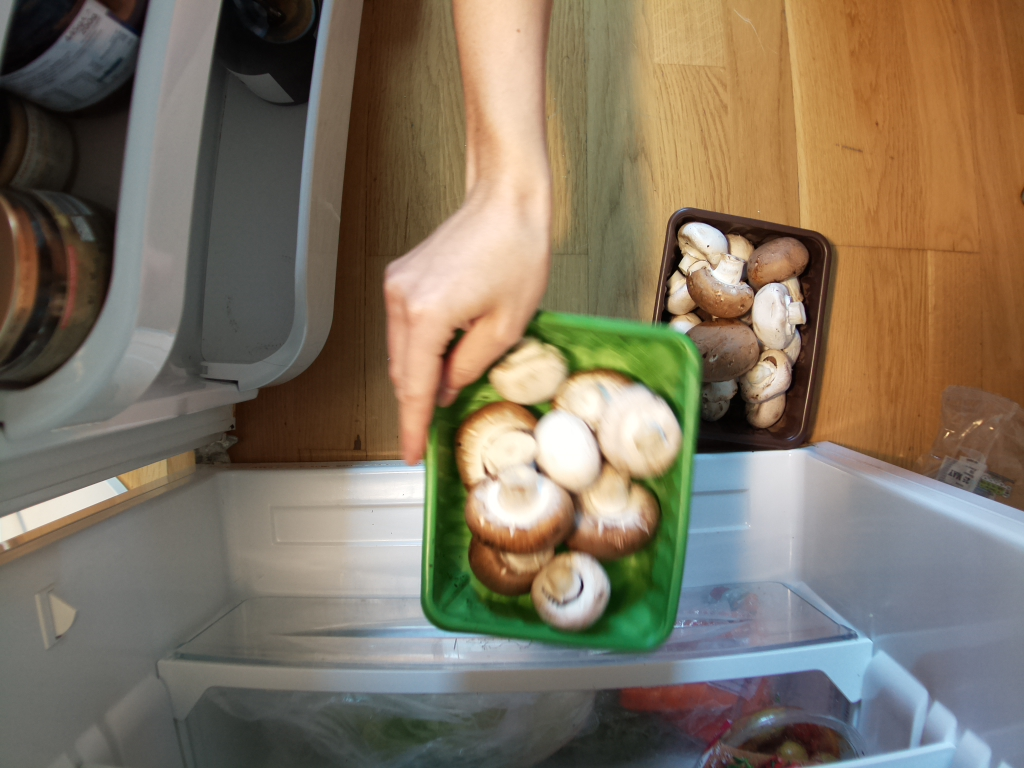mushrooms: (420, 309, 694, 660), (655, 188, 827, 456)
